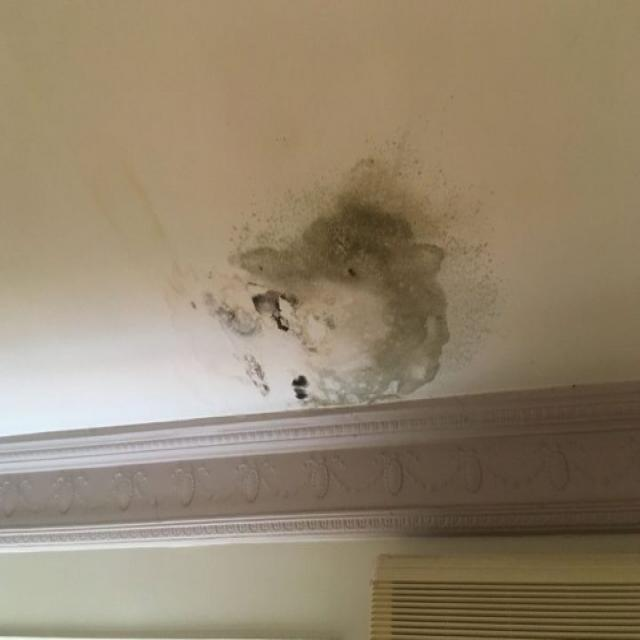leak: (152, 118, 507, 411)
